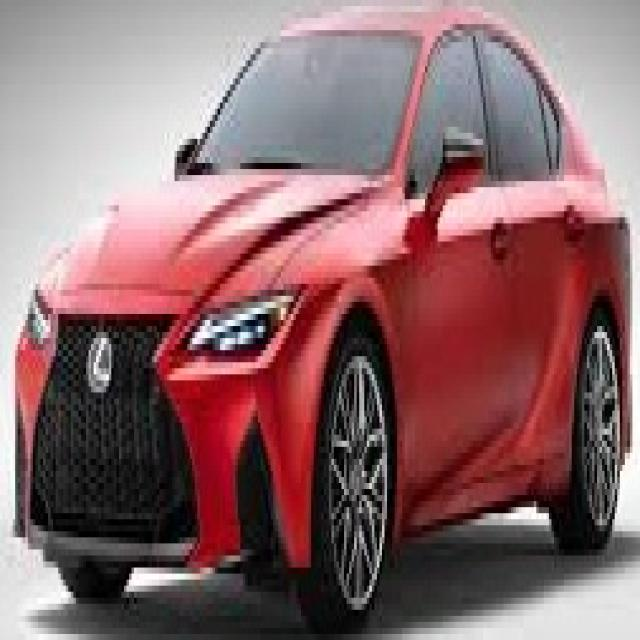red: (15, 8, 633, 629)
